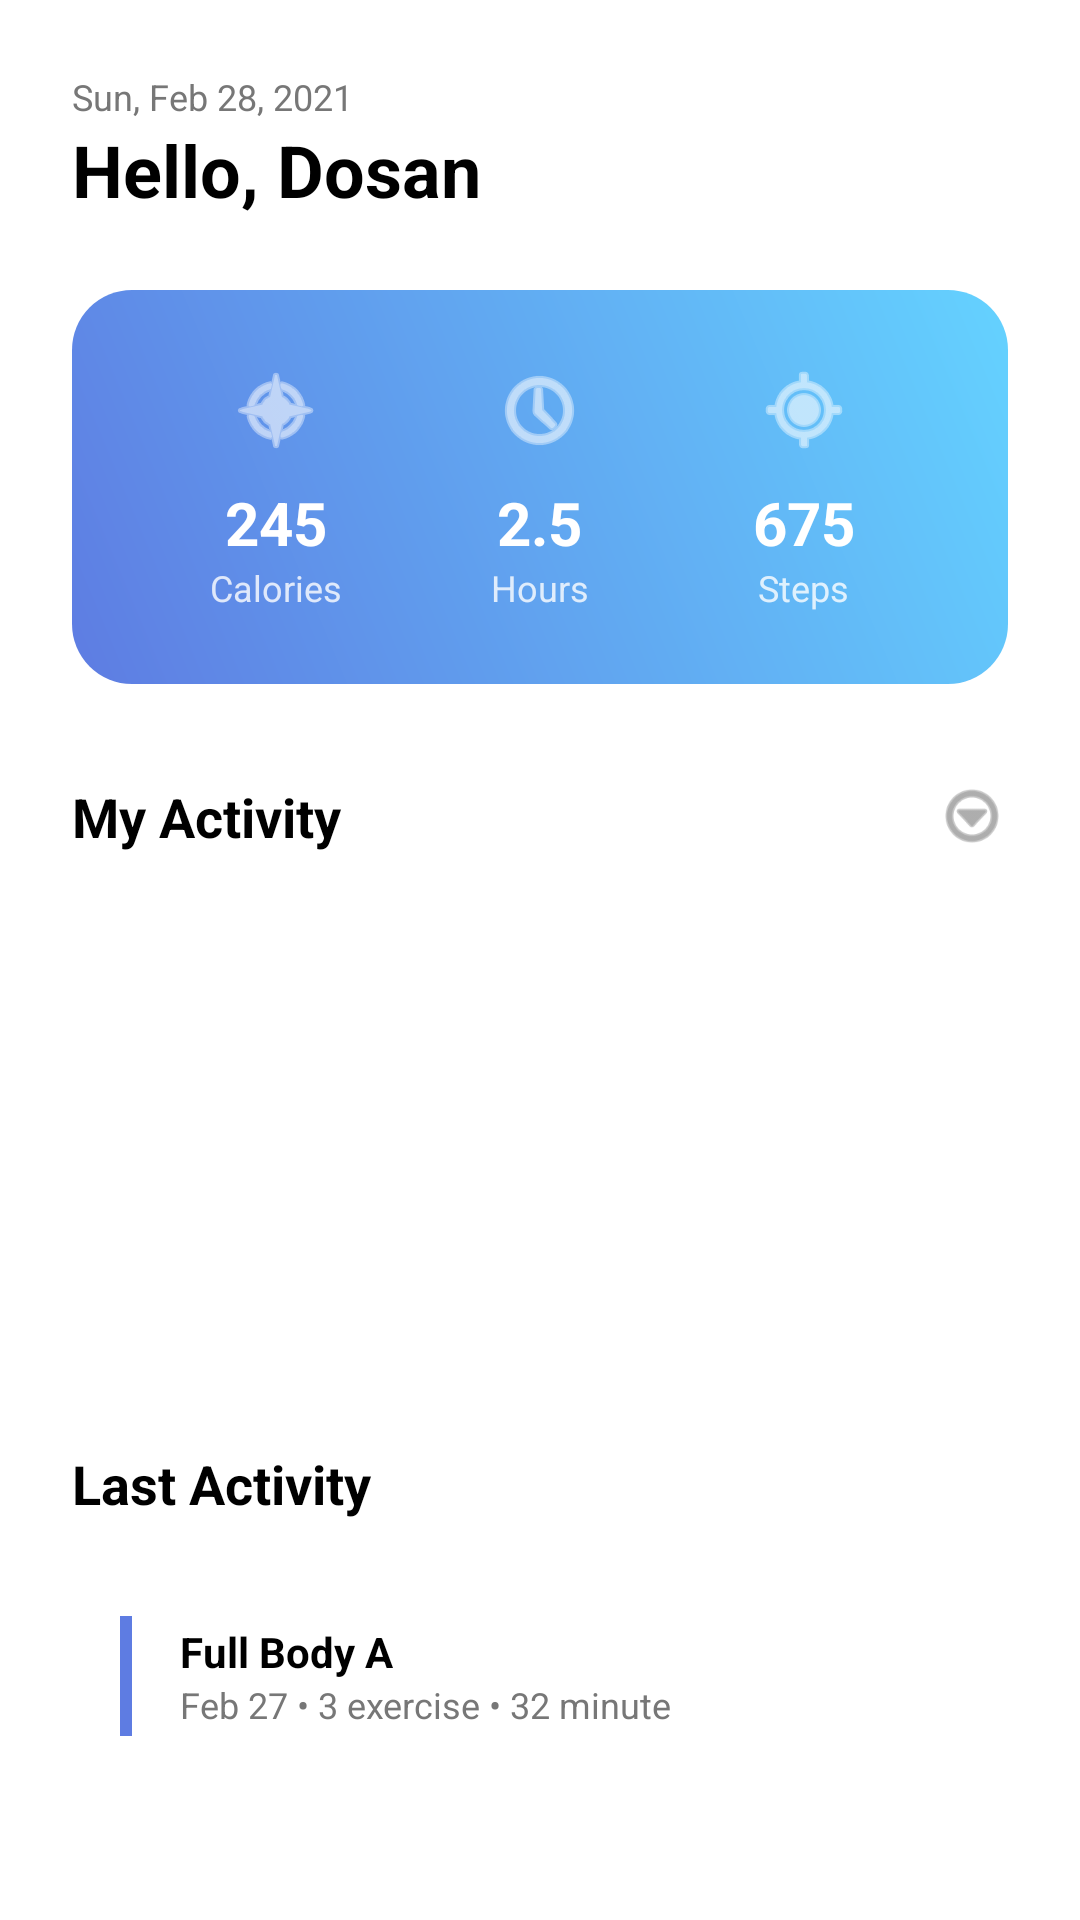

Screen size 1080px x 1920px. Icon name, then its center in pixels as point (x, y):
more: point (972, 816)
mylocation: point (804, 410)
recent history: point (539, 410)
